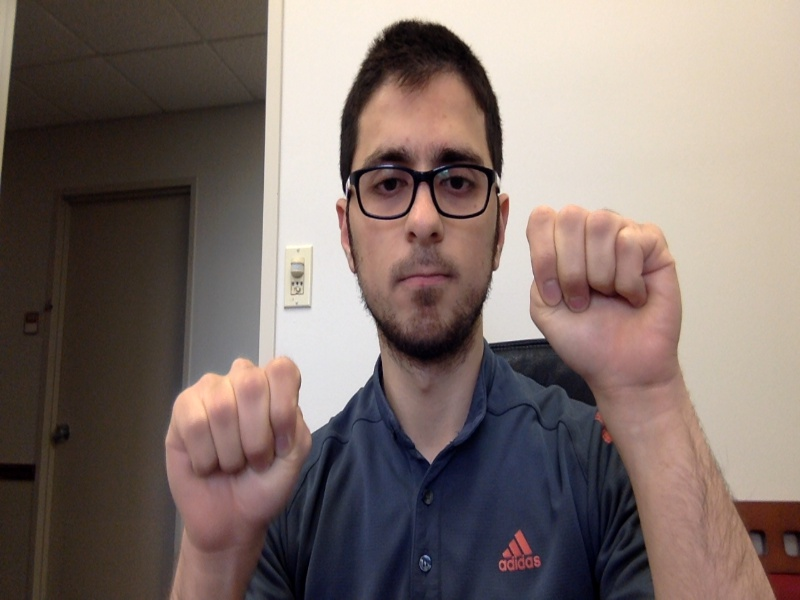0-hand: (527, 202, 683, 391), (167, 358, 312, 547)
